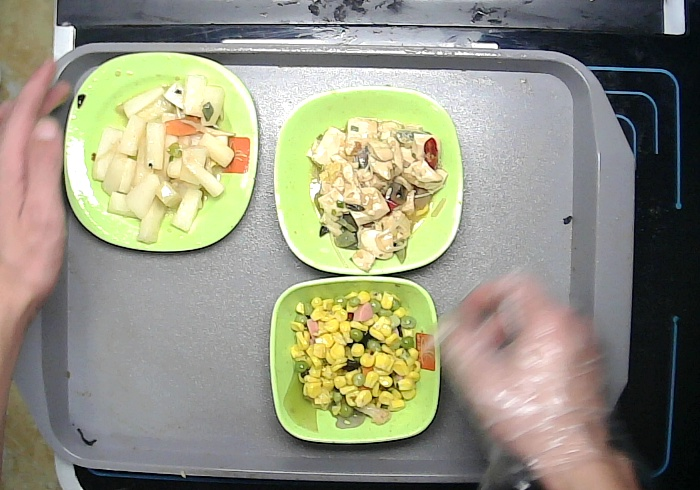SHKJ-Lv_Se_Cai_Die: (272, 84, 466, 276)
SHKJ-Lv_Se_Si_Fang_Cai_Die: (58, 50, 264, 256)
SHKJ-Lv_Se_Xiao_Fang_Die: (266, 275, 444, 445)
